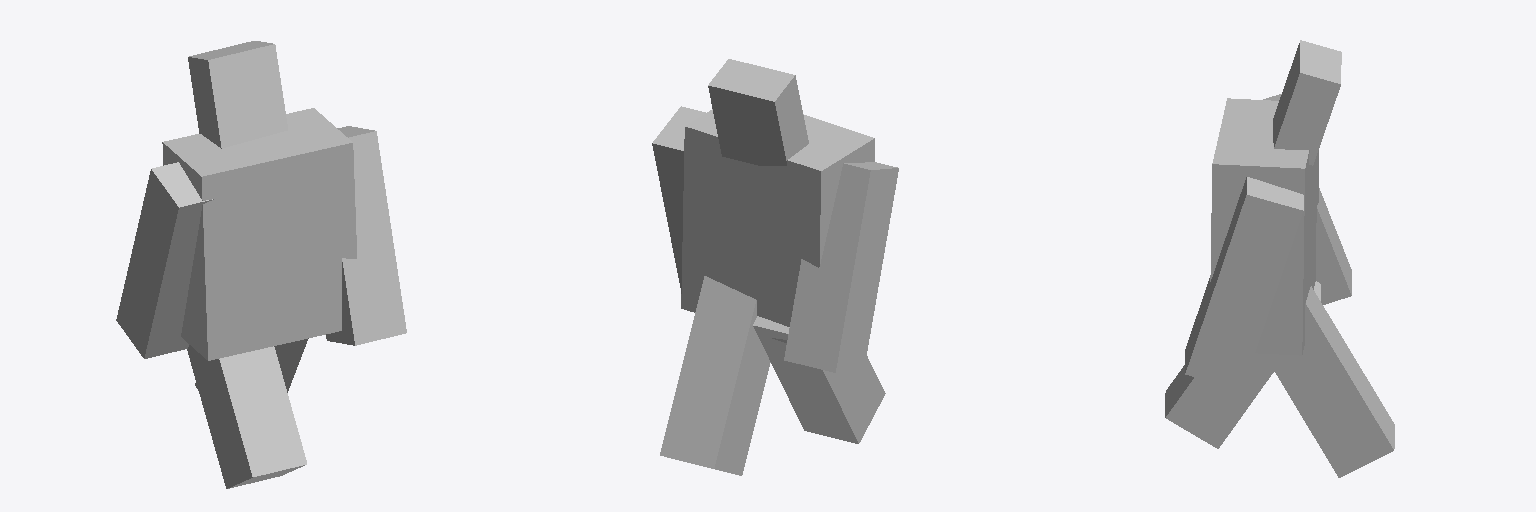
Rendered from walk_000019.obj.
The picture shows the model from 3 angles: view 1: azimuth 30°, elevation 25°; view 2: azimuth 150°, elevation 25°; view 3: azimuth 270°, elevation 25°; orthographic projection.
Parts seen in each view (by area): view 1: Cube, leg.003_Cube.002, leg_Cube.001, leg.002_Cube.006, Cube.001_Cube.003, leg.001_Cube.007; view 2: Cube, leg.003_Cube.002, leg.001_Cube.007, leg_Cube.001, Cube.001_Cube.003, leg.002_Cube.006, Plane.002; view 3: leg.002_Cube.006, Cube, leg.001_Cube.007, Cube.001_Cube.003, leg_Cube.001, leg.003_Cube.002.
Part boxes in pixels (bbox=[...]): Cube: bbox=[162, 108, 356, 360]; leg.003_Cube.002: bbox=[116, 162, 213, 358]; leg_Cube.001: bbox=[187, 345, 306, 488]; leg.002_Cube.006: bbox=[326, 126, 406, 345]; Cube.001_Cube.003: bbox=[188, 41, 287, 148]; leg.001_Cube.007: bbox=[195, 338, 308, 392]; Cube: bbox=[681, 109, 874, 342]; leg.003_Cube.002: bbox=[784, 162, 898, 372]; leg.001_Cube.007: bbox=[660, 276, 770, 475]; leg_Cube.001: bbox=[753, 316, 885, 443]; Cube.001_Cube.003: bbox=[708, 59, 808, 165]; leg.002_Cube.006: bbox=[652, 106, 705, 293]; Plane.002: bbox=[728, 129, 775, 163]; leg.002_Cube.006: bbox=[1185, 177, 1303, 389]; Cube: bbox=[1210, 98, 1318, 355]; leg.001_Cube.007: bbox=[1264, 286, 1394, 477]; Cube.001_Cube.003: bbox=[1273, 40, 1341, 165]; leg_Cube.001: bbox=[1165, 281, 1320, 448]; leg.003_Cube.002: bbox=[1263, 94, 1351, 304].
Size of the model in its own units: 3.47 by 6.29 by 3.31.